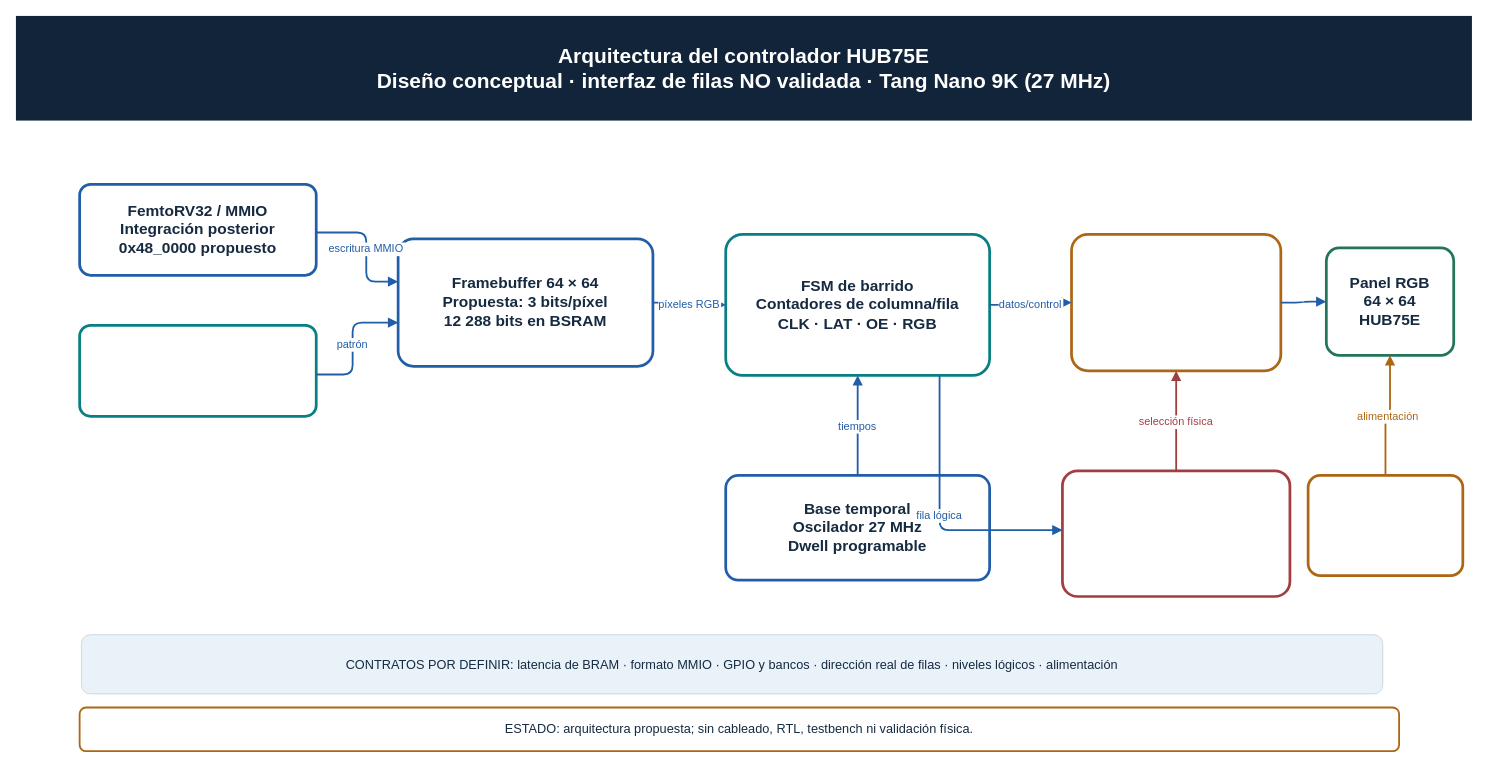
This 1487x767 diagram has some shape labels left out. The shapes that lost their labels are listed below. From the top down, each one's centre as x and y in pixels, then its label:
pixel 1176 302: Buffer de niveles Si hace falta 3,3→5 V (según CI del panel)
pixel 197 370: Generador de patrones Primera prueba: colores fijos sin CPU
pixel 1176 533: Adaptador de filas fila lógica → señales físicas A B C E / NC sin validar
pixel 1385 525: Alimentación Fuente externa valor por validar
